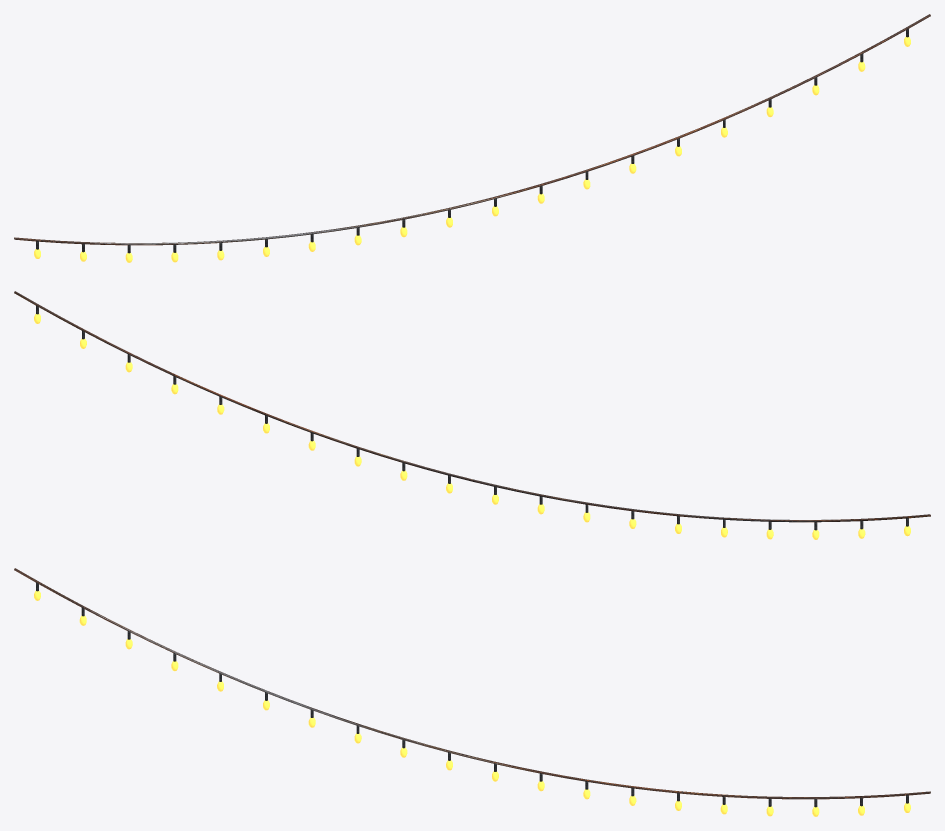
File: prop_string_lights.glb
3 views of the same model, one above another, from view 1: azimuth 30°, elevation 25°; view 2: azimuth 150°, elevation 25°; view 3: azimuth 330°, elevation 25° (orthographic).
Visible parts, largest first — view 1: prop_string_lights; view 2: prop_string_lights; view 3: prop_string_lights.
Part boxes in pixels (x1,y1,x2,y2): prop_string_lights: [14, 14, 930, 262]; prop_string_lights: [14, 291, 930, 539]; prop_string_lights: [14, 568, 930, 816].
Bounding box in the file's own units: 5 × 0.5024 × 0.0342.
Materials: 3 (2 with a texture image).
